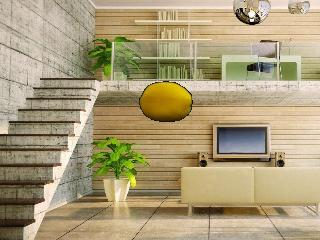lemon: (141, 82, 192, 121)
